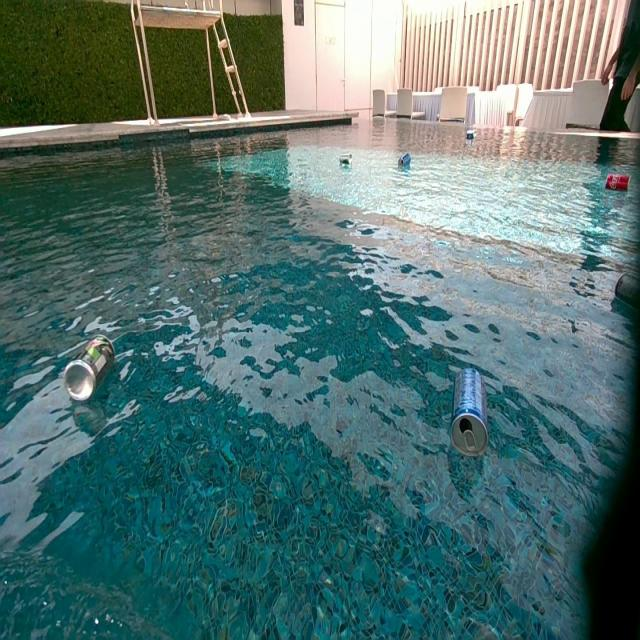Cans: (448, 369, 490, 459), (62, 335, 112, 401), (608, 174, 630, 192), (398, 152, 411, 166), (340, 155, 352, 170), (465, 130, 475, 141)
